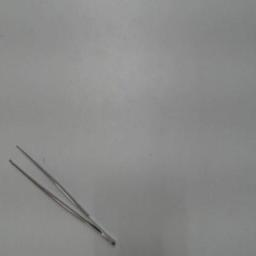Gillies Toothed Dissector: (4, 136, 118, 250)
